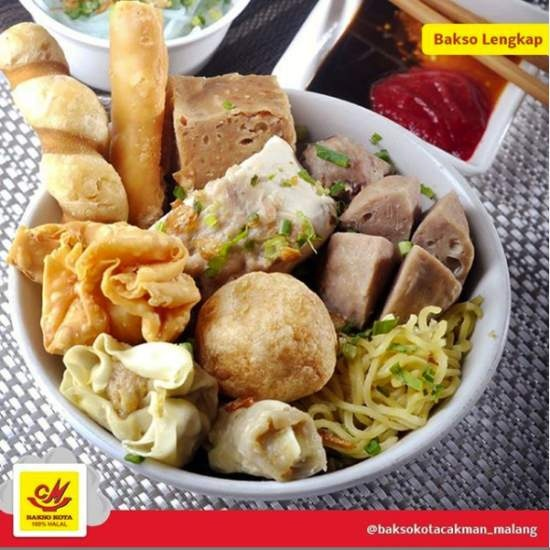bakso_malang: (9, 73, 483, 482)
